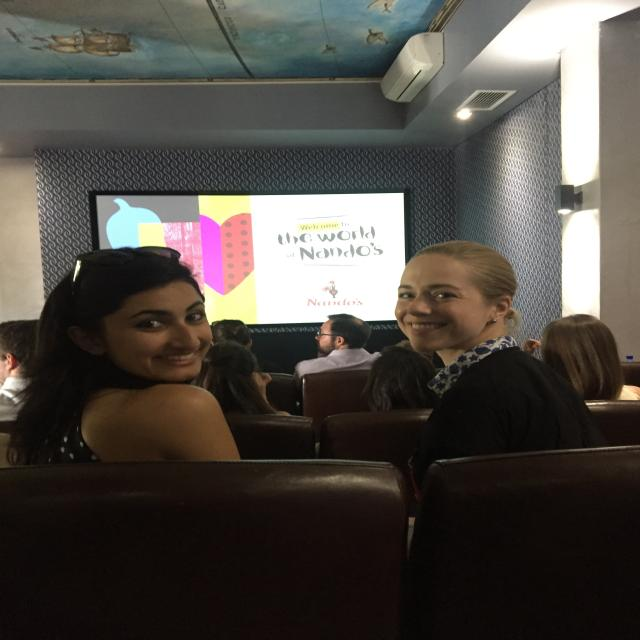body: (392, 238, 612, 495), (3, 244, 244, 466), (522, 313, 640, 401), (292, 313, 383, 406), (0, 319, 53, 475), (196, 342, 292, 416), (348, 345, 442, 413), (209, 318, 284, 376)
